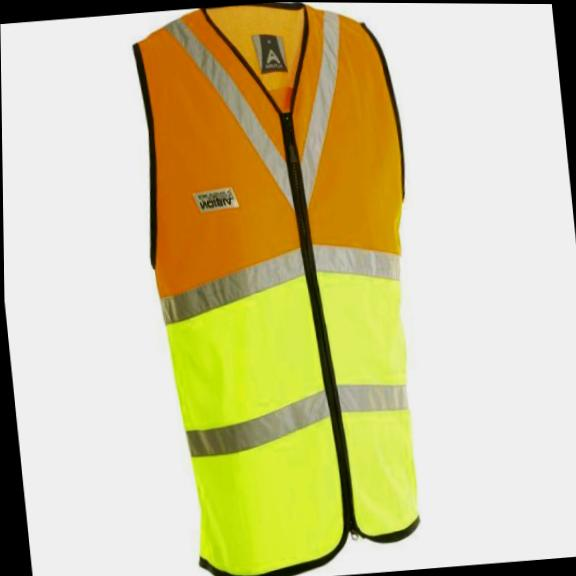safety_vest: (124, 1, 450, 576)
